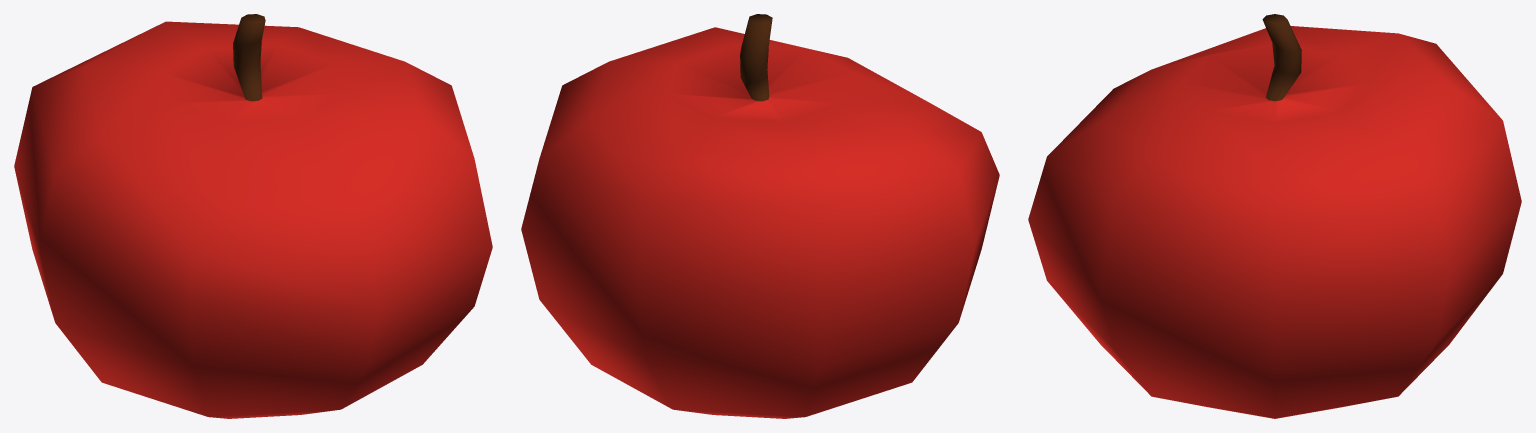
The model's file is apple.fbx.
The picture shows the model from 3 angles, left to right: view 1: azimuth 30°, elevation 25°; view 2: azimuth 150°, elevation 25°; view 3: azimuth 270°, elevation 25°; orthographic projection.
Parts seen in each view (by area): view 1: Sphere.001; view 2: Sphere.001; view 3: Sphere.001.
Part boxes in pixels (box(x1,y1,x2,y2)): Sphere.001: box(14, 14, 492, 418); Sphere.001: box(521, 14, 999, 418); Sphere.001: box(1028, 14, 1521, 418).
Size of the model in its own units: 391 by 314 by 391.
